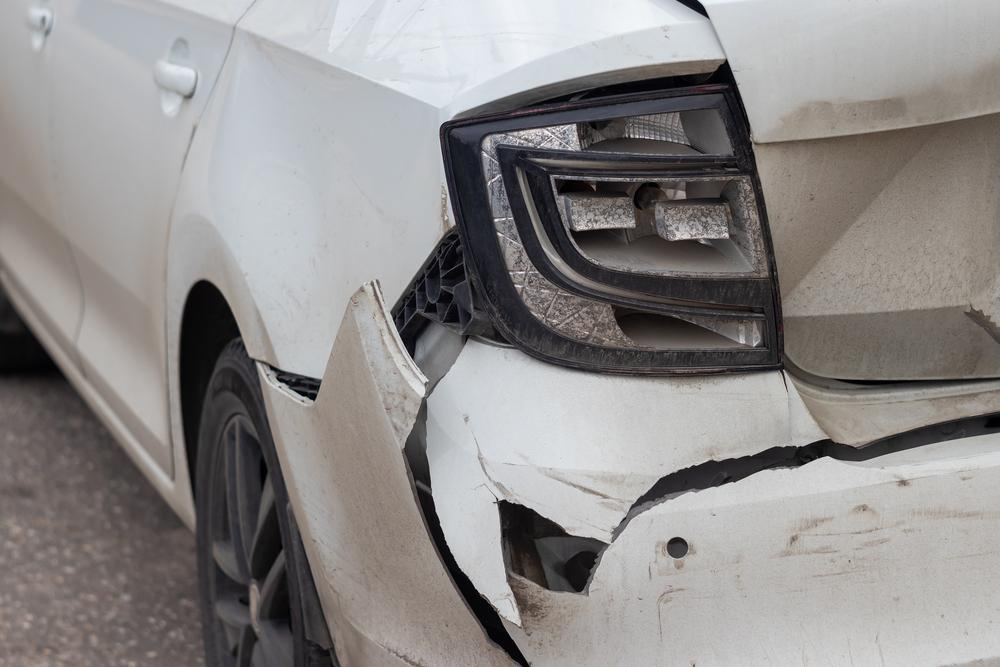crack: (400, 380, 1000, 667)
dent: (207, 31, 449, 375)
lamp broken: (447, 82, 779, 375)
